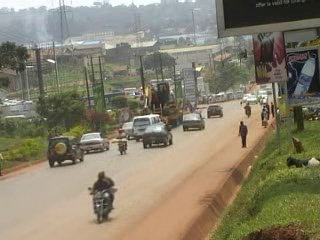Car: (45, 134, 85, 170), (138, 122, 175, 152), (77, 129, 109, 159), (179, 111, 207, 133), (119, 117, 137, 141), (245, 92, 258, 105), (241, 90, 253, 102)
Motorcycle: (86, 168, 117, 223), (110, 126, 130, 157), (241, 100, 251, 117), (192, 104, 202, 118)
